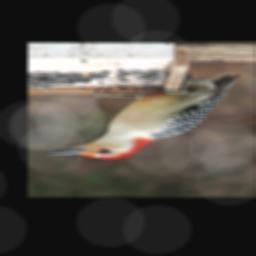Woodpecker: (42, 72, 243, 159)
